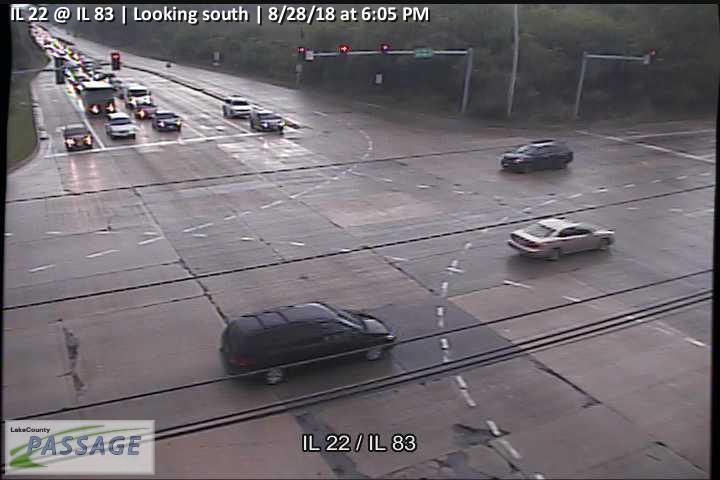SUV: (218, 300, 397, 386), (500, 139, 575, 173), (104, 112, 137, 140), (249, 109, 285, 132), (221, 95, 253, 118)
Sedan: (507, 217, 617, 260), (63, 123, 93, 151), (152, 110, 182, 132)
Truck: (81, 80, 117, 114)
